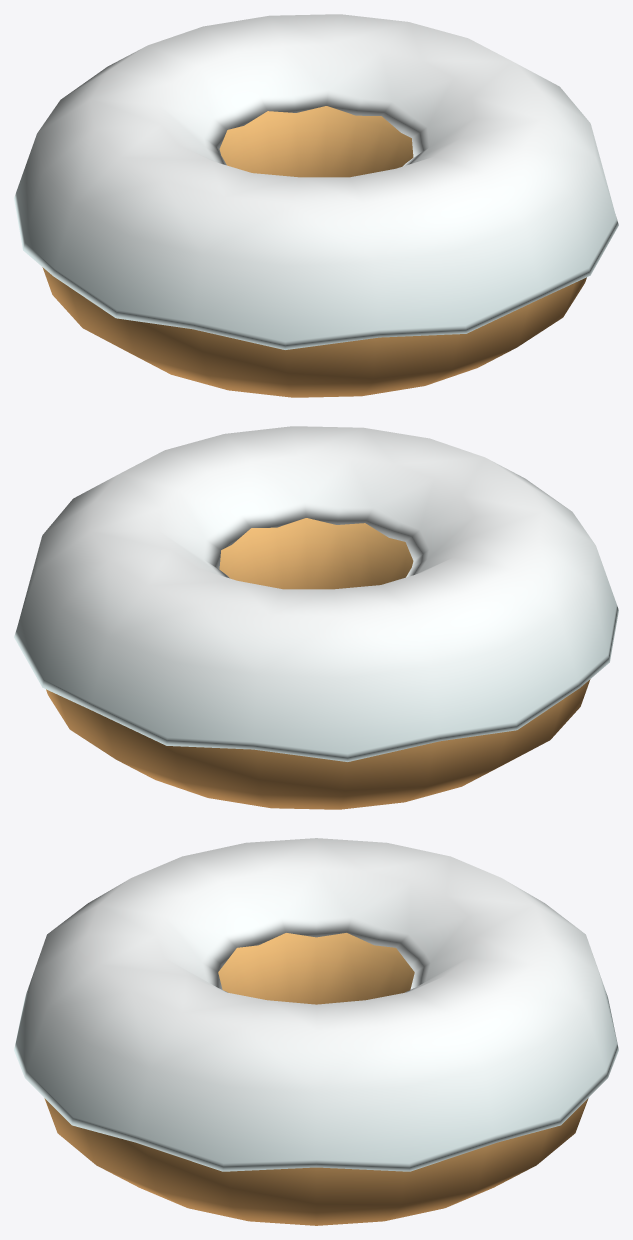
Rendered from donut_white.fbx.
3 views of the same model, one above another, from view 1: azimuth 30°, elevation 25°; view 2: azimuth 150°, elevation 25°; view 3: azimuth 270°, elevation 25° (orthographic).
Parts seen in each view (by area): view 1: donut_white; view 2: donut_white; view 3: donut_white.
Part boxes in pixels (box(x1,y1,x2,y2)): donut_white: box(14, 14, 618, 397); donut_white: box(14, 426, 618, 809); donut_white: box(14, 838, 618, 1225).
Size of the model in its own units: 93.8 by 33.51 by 92.52.
